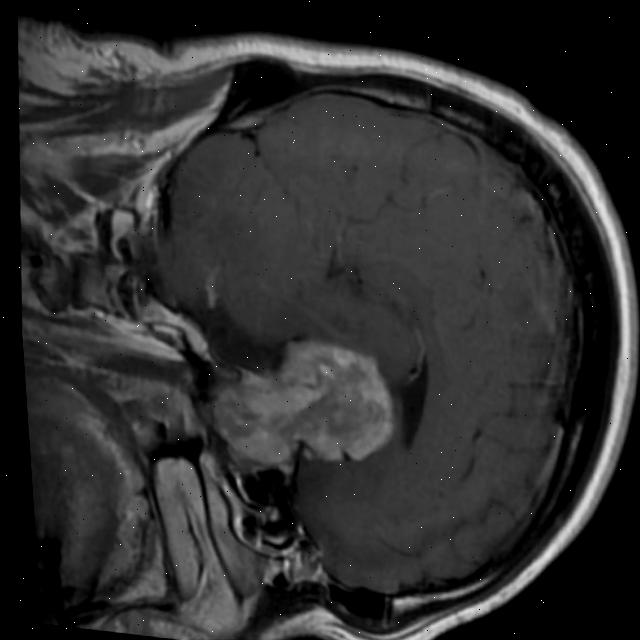Pituitary: (201, 327, 403, 479)
